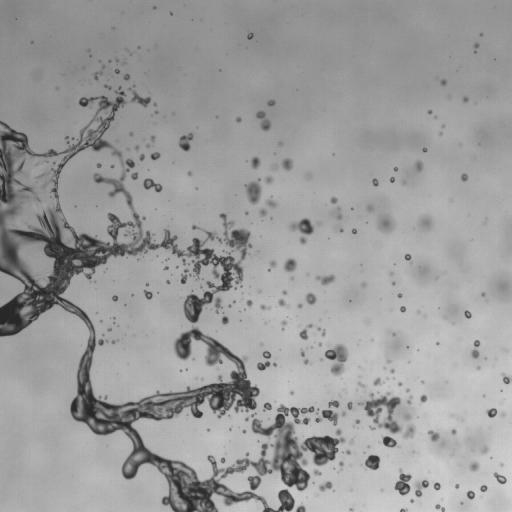droplet: (358, 391, 415, 438), (325, 344, 348, 375), (289, 218, 314, 244), (394, 469, 411, 495), (245, 179, 261, 204), (377, 214, 395, 232), (143, 178, 162, 192), (257, 351, 271, 370), (179, 133, 193, 151), (364, 455, 380, 470), (414, 480, 428, 497), (418, 215, 433, 230), (316, 275, 335, 285), (283, 258, 296, 271), (382, 436, 397, 447), (493, 472, 506, 484), (305, 292, 316, 305), (319, 481, 332, 491), (428, 430, 439, 441), (282, 158, 292, 170), (265, 198, 277, 208), (251, 157, 260, 169), (469, 461, 479, 471), (486, 408, 497, 417), (502, 373, 511, 383), (278, 299, 289, 307), (143, 290, 152, 299), (150, 152, 160, 160), (268, 260, 276, 270), (373, 377, 383, 385), (263, 402, 271, 411), (415, 161, 422, 171), (467, 490, 474, 499), (259, 208, 266, 216), (464, 310, 471, 318), (221, 316, 228, 324), (420, 394, 427, 402), (433, 482, 440, 490), (131, 172, 138, 179), (265, 176, 272, 183), (404, 253, 411, 260), (481, 446, 488, 453), (480, 485, 487, 492), (461, 173, 467, 181), (372, 178, 378, 186), (313, 469, 321, 475), (94, 72, 100, 79), (267, 100, 274, 106), (330, 197, 337, 203), (404, 413, 410, 420), (407, 396, 412, 404), (247, 33, 253, 39), (123, 74, 129, 80), (440, 79, 446, 85), (246, 300, 252, 306), (347, 402, 352, 409), (192, 225, 200, 229), (150, 135, 155, 141), (139, 154, 144, 160), (112, 295, 117, 301), (400, 306, 405, 312), (339, 461, 343, 468), (474, 43, 479, 48), (463, 97, 468, 102), (236, 117, 241, 122), (367, 205, 372, 210), (338, 227, 343, 232), (451, 429, 456, 434), (220, 458, 225, 463), (344, 450, 350, 454), (400, 508, 407, 511), (105, 85, 110, 89), (135, 145, 139, 150), (96, 163, 101, 167), (272, 165, 277, 169), (390, 177, 394, 182), (352, 228, 356, 233), (282, 290, 287, 294), (397, 293, 402, 297), (297, 304, 302, 308), (390, 368, 394, 373), (349, 439, 353, 444), (115, 69, 119, 73), (164, 266, 168, 270), (481, 292, 485, 296), (341, 412, 345, 416), (355, 419, 359, 423), (242, 429, 246, 433), (455, 484, 459, 488), (112, 340, 117, 343), (166, 280, 169, 284), (387, 359, 390, 363), (272, 363, 276, 366), (398, 382, 401, 386), (349, 508, 353, 511), (428, 110, 431, 113), (278, 142, 281, 145), (423, 148, 426, 151), (394, 167, 397, 170), (188, 172, 191, 175), (362, 283, 365, 286), (318, 342, 321, 345), (477, 366, 480, 369), (406, 389, 409, 392), (290, 391, 293, 394), (410, 499, 413, 502), (502, 412, 504, 416), (116, 59, 118, 62), (153, 103, 156, 105), (146, 144, 149, 146), (111, 164, 113, 167), (308, 173, 310, 176), (317, 222, 320, 224), (392, 282, 395, 284), (108, 328, 110, 331), (207, 428, 209, 431), (155, 111, 157, 113), (66, 137, 68, 139), (246, 212, 248, 214), (390, 272, 392, 274), (290, 277, 292, 279), (146, 283, 148, 285), (392, 333, 394, 335), (436, 342, 438, 344)
ligament: (0, 86, 345, 511), (130, 88, 150, 107), (256, 111, 270, 130), (299, 323, 313, 339), (471, 340, 479, 358), (300, 349, 309, 364), (335, 207, 342, 219), (317, 327, 325, 336), (435, 504, 445, 511), (260, 304, 270, 310), (281, 320, 287, 329), (358, 381, 364, 387), (456, 416, 462, 420)
